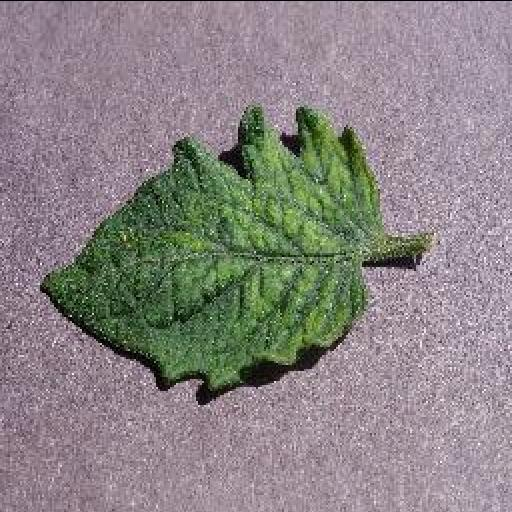Mosaic Virus: (39, 100, 381, 390)
